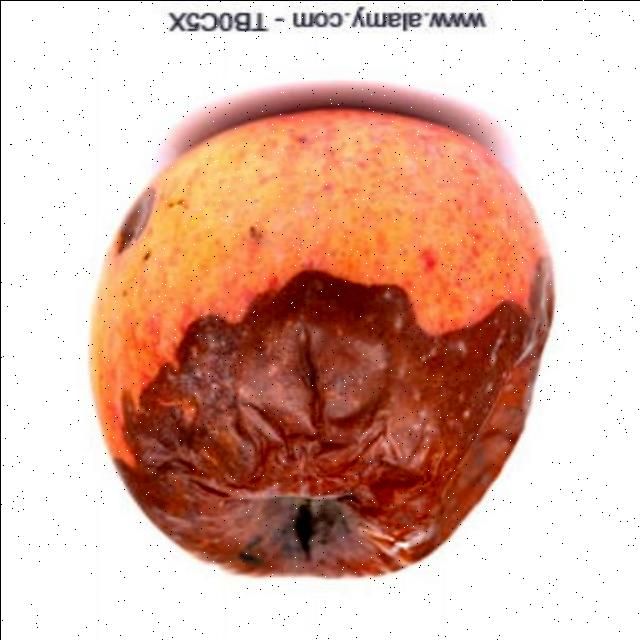ROT: (59, 86, 586, 594)
